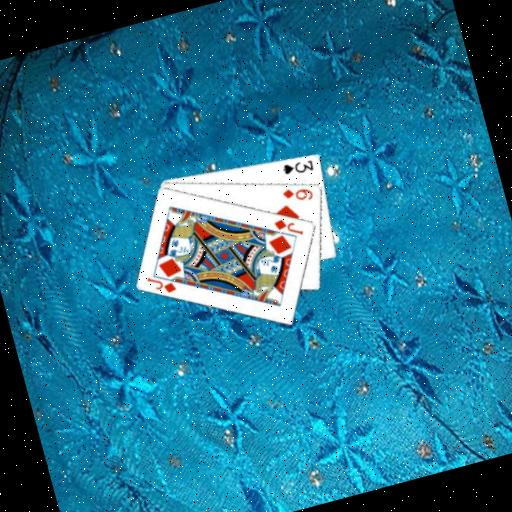3S: (278, 154, 315, 179)
6D: (278, 179, 316, 207)
JD: (270, 211, 306, 243), (143, 268, 179, 300)
